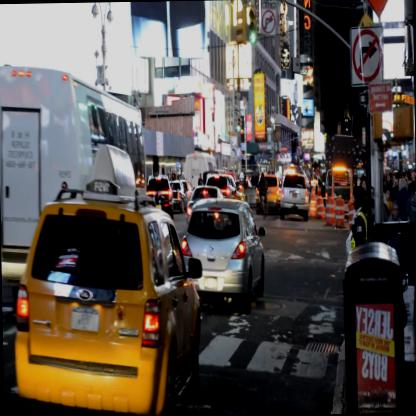bus: (0, 63, 148, 274)
car: (11, 197, 202, 415), (179, 198, 264, 311), (278, 174, 310, 224), (254, 174, 280, 212), (206, 176, 238, 200)
